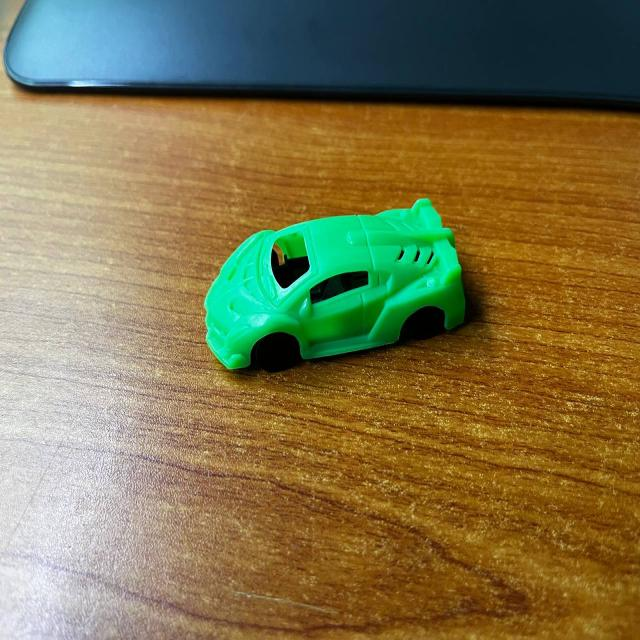car: (180, 193, 476, 394)
